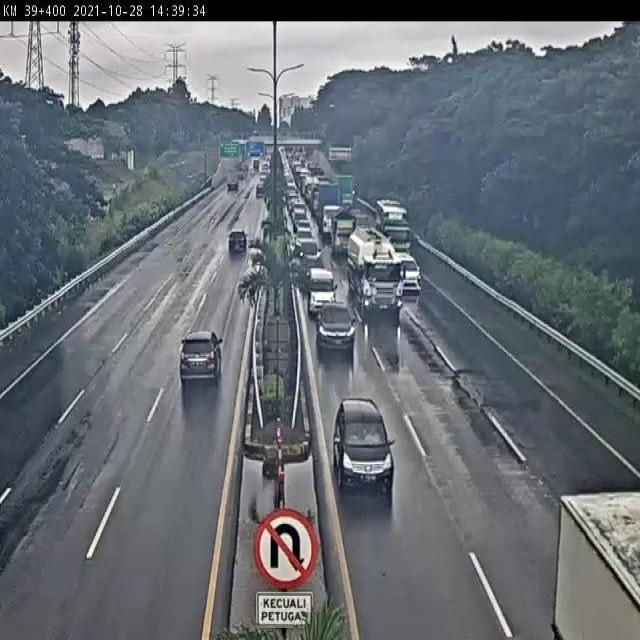car: (328, 393, 396, 499), (172, 318, 226, 398), (311, 296, 357, 353), (305, 260, 331, 305), (399, 256, 425, 296), (222, 227, 252, 256), (296, 240, 326, 263)
truck: (541, 481, 640, 640), (343, 223, 401, 323), (378, 196, 416, 248)
